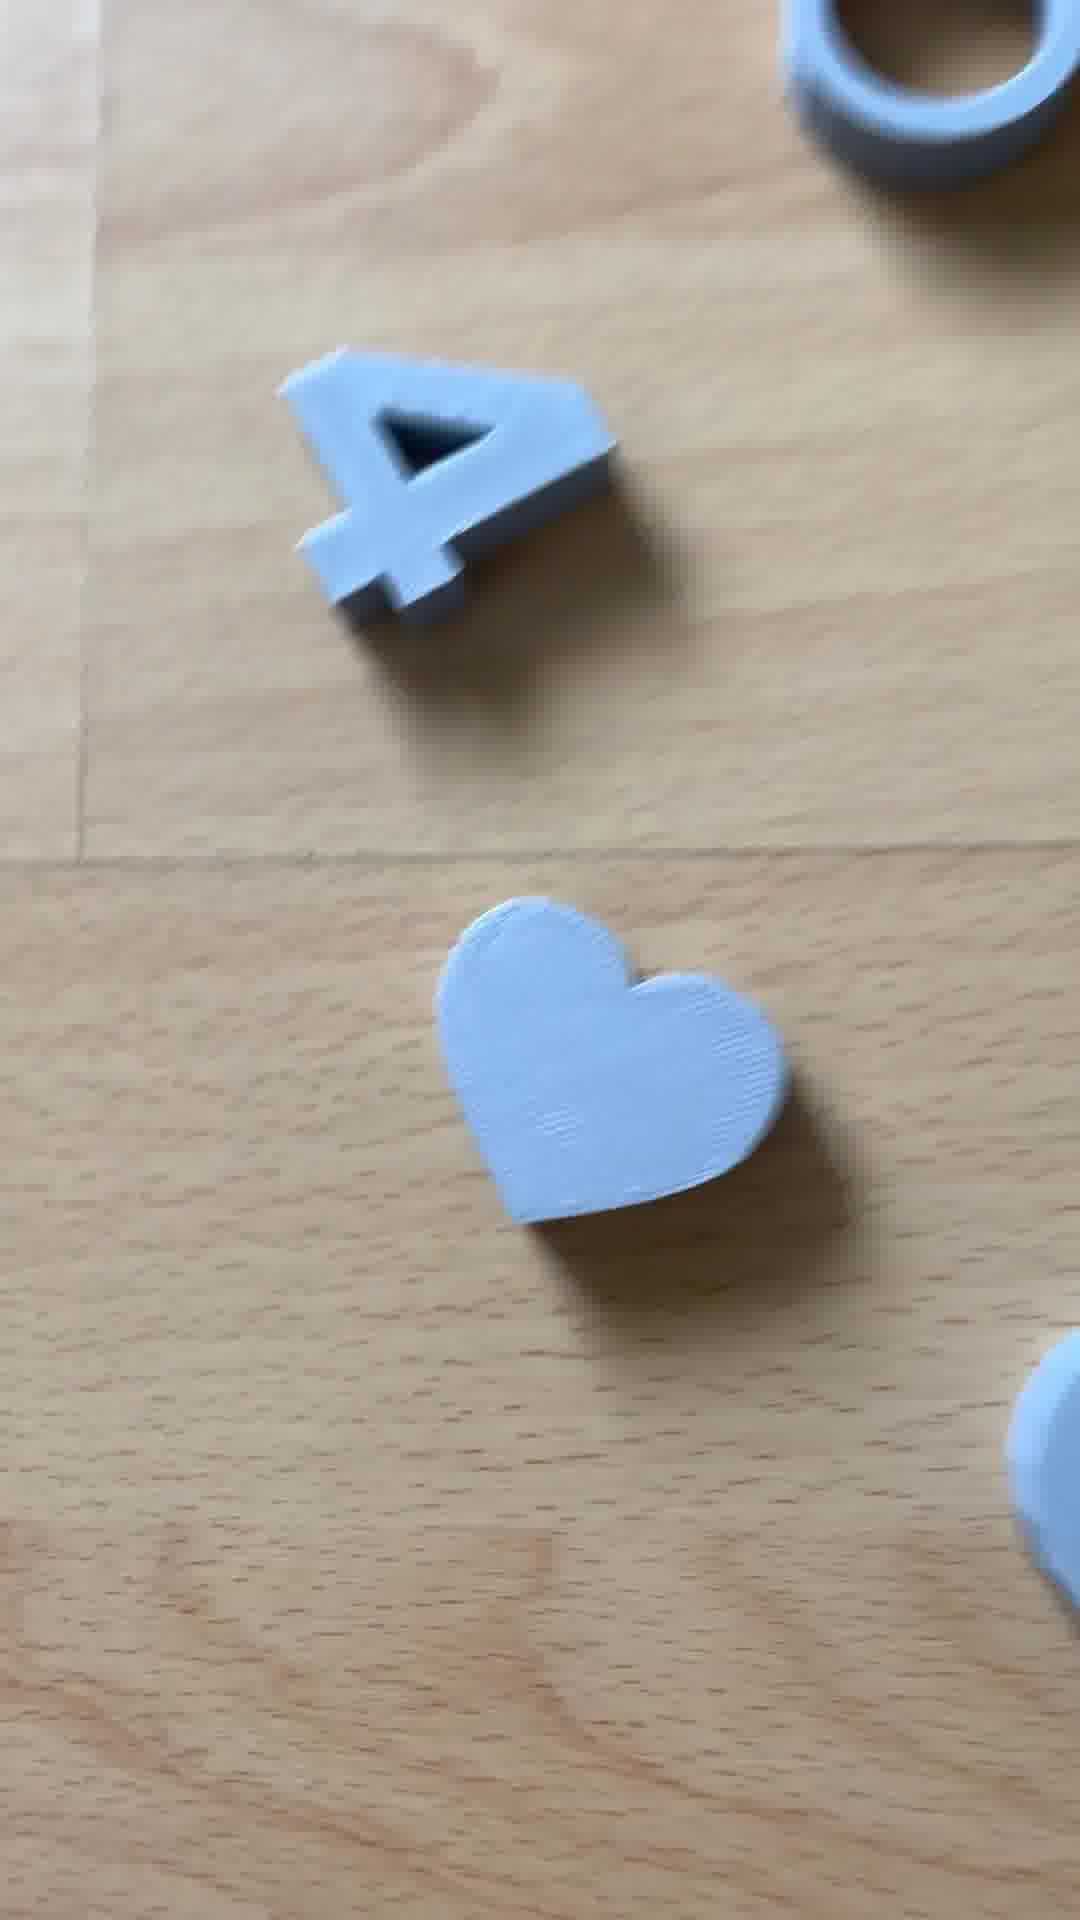Gray four: (255, 332, 651, 634)
Gray heart: (421, 891, 770, 1244)
Gray ring: (764, 1, 1080, 206)
